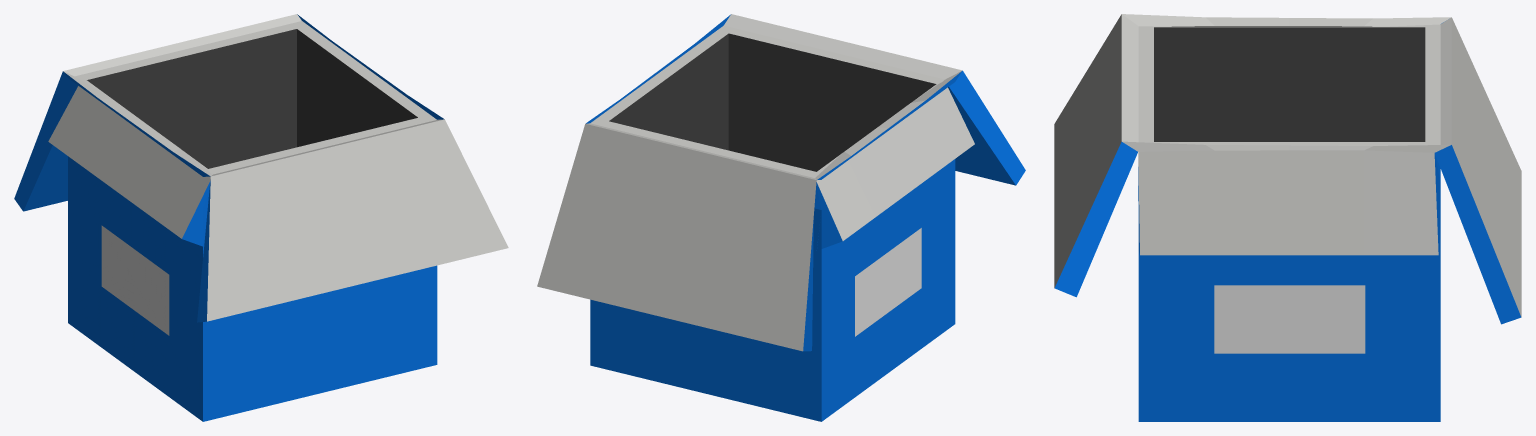
Rendered from Blue_box.fbx.
3 renders of one model, left to right at view 1: azimuth 30°, elevation 25°; view 2: azimuth 150°, elevation 25°; view 3: azimuth 270°, elevation 25°, orthographic. The views are drawn at different scales.
Visible parts, largest first — view 1: Cube.012; view 2: Cube.012; view 3: Cube.012.
Boxes of the visible parts, x1,y1,x2,y2 form: Cube.012: (14,14,508,421); Cube.012: (537,14,1025,421); Cube.012: (1054,14,1521,421).
Size of the model in its own units: 158 by 126 by 190.
